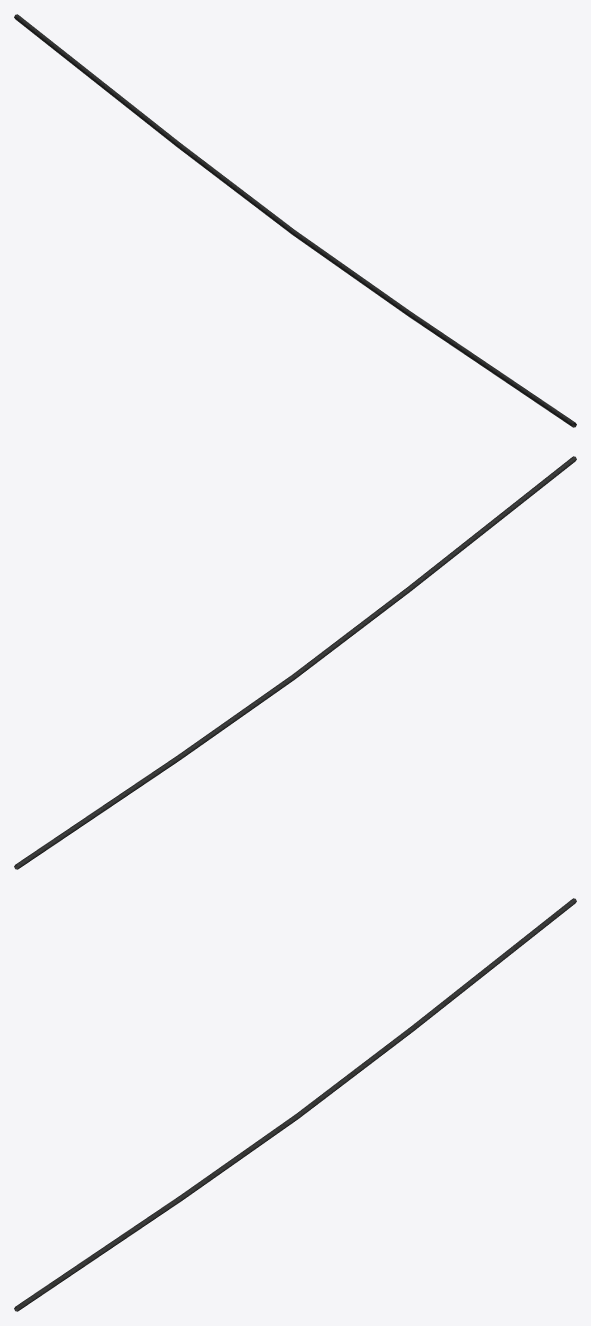
File: CP_Wires_18m_03.fbx
3 renders of one model, top to bottom at view 1: azimuth 30°, elevation 25°; view 2: azimuth 150°, elevation 25°; view 3: azimuth 330°, elevation 25°, orthographic.
Parts seen in each view (by area): view 1: CP_Wires_18m_03; view 2: CP_Wires_18m_03; view 3: CP_Wires_18m_03.
Boxes of the visible parts, x1,y1,x2,y2 form: CP_Wires_18m_03: [14, 14, 576, 427]; CP_Wires_18m_03: [14, 456, 576, 869]; CP_Wires_18m_03: [14, 898, 576, 1311].
Size of the model in its own units: 9.18 by 30.74 by 1800.
